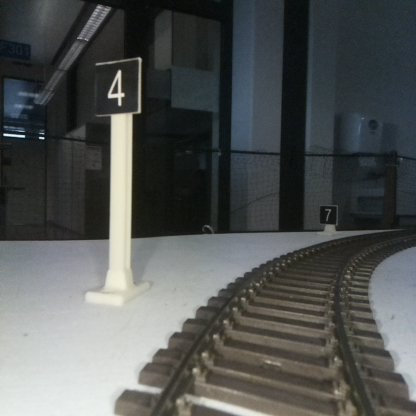black-info-4: (95, 59, 138, 304)
black-stop-7: (320, 206, 337, 234)
